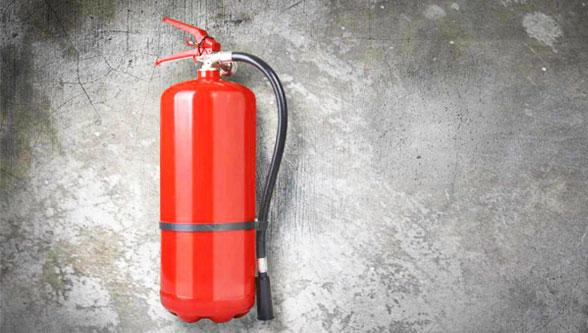wall-mounted: (128, 11, 313, 332)
